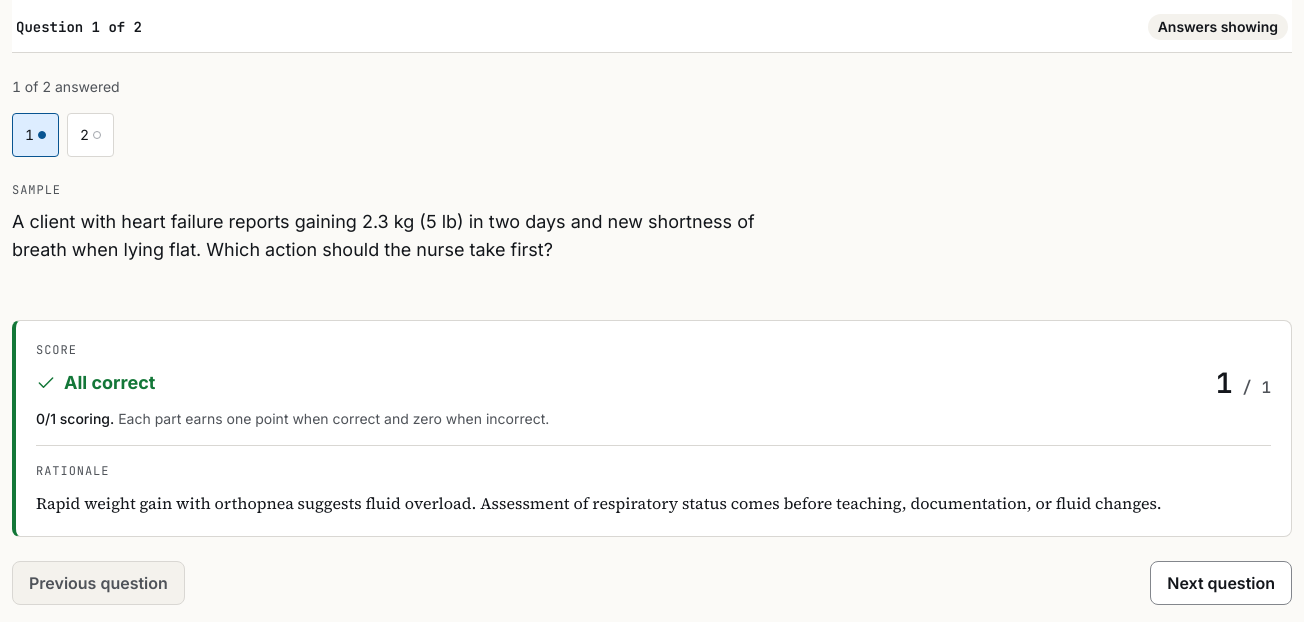
StudentPacedRoom (#185) › shows every item's key after Show answers, with marks where this phone answered
The width and height of the screenshot is (1304, 622).
Expected: the text "Answers showing" is shown, [1148, 14, 1288, 40]
Expected: the message with test id "paced-count" reads "1 of 2 answered", [12, 78, 120, 95]
Click the button "Next question": [1221, 583] box [1150, 561, 1292, 605]
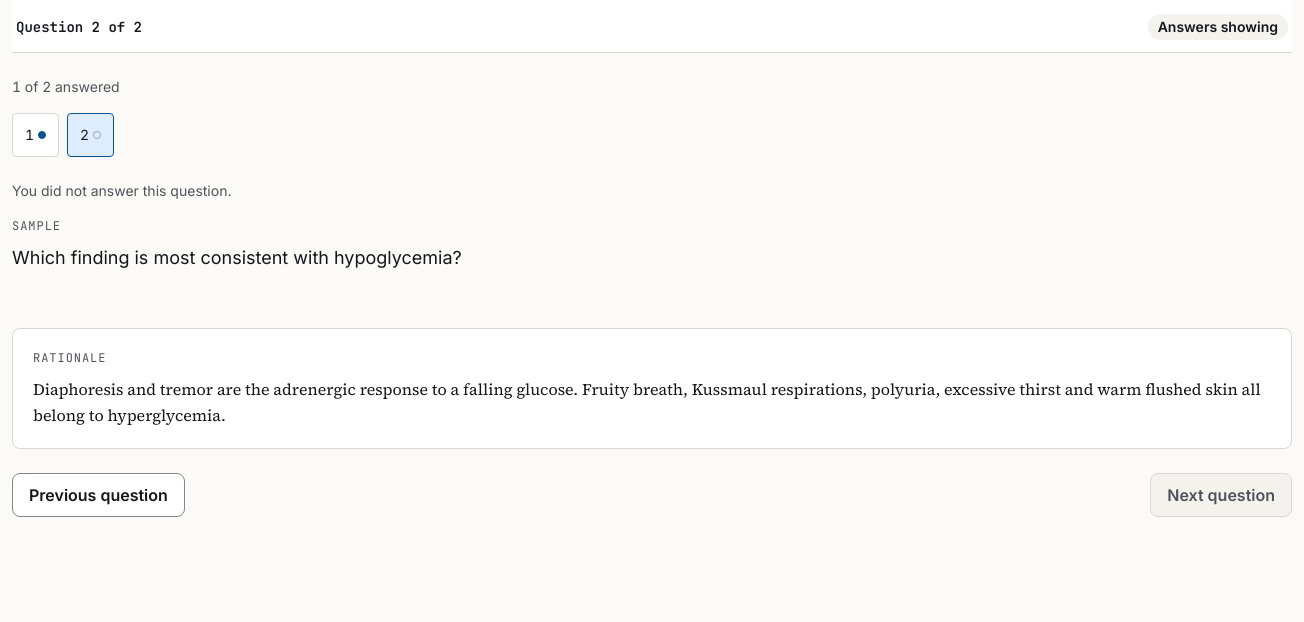
Expected: the element named "Answer key" is shown, [12, 217, 1292, 449]
Result: the text "You did not answer this question." is shown at [12, 182, 232, 199]
